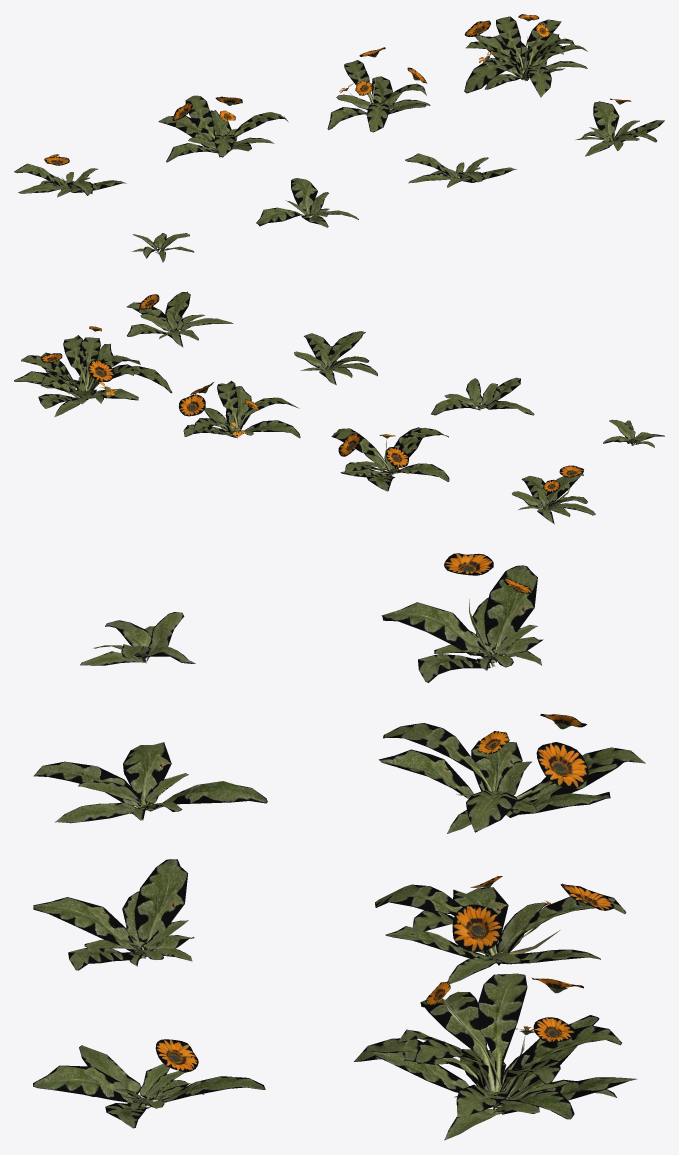
Rendered from flower_gazania.glb.
3 views of the same model, one above another, from view 1: azimuth 30°, elevation 25°; view 2: azimuth 150°, elevation 25°; view 3: azimuth 270°, elevation 25° (orthographic). The views are drawn at different scales.
Visible parts, largest first — view 1: flower_gazania_h_LOD0, flower_gazania_f_LOD0, flower_gazania_g_LOD0, flower_gazania_d_LOD0, flower_gazania_b_LOD0, flower_gazania_e_LOD0, flower_gazania_c_LOD0, flower_gazania_a_LOD0; view 2: flower_gazania_h_LOD0, flower_gazania_f_LOD0, flower_gazania_g_LOD0, flower_gazania_d_LOD0, flower_gazania_e_LOD0, flower_gazania_c_LOD0, flower_gazania_b_LOD0, flower_gazania_a_LOD0; view 3: flower_gazania_h_LOD0, flower_gazania_f_LOD0, flower_gazania_g_LOD0, flower_gazania_e_LOD0, flower_gazania_c_LOD0, flower_gazania_d_LOD0, flower_gazania_b_LOD0, flower_gazania_a_LOD0.
Part boxes in pixels (bbox=[...]): flower_gazania_h_LOD0: bbox=[464, 14, 587, 97]; flower_gazania_f_LOD0: bbox=[158, 95, 288, 162]; flower_gazania_g_LOD0: bbox=[327, 47, 430, 132]; flower_gazania_d_LOD0: bbox=[575, 98, 664, 156]; flower_gazania_b_LOD0: bbox=[256, 178, 358, 227]; flower_gazania_e_LOD0: bbox=[14, 154, 126, 197]; flower_gazania_c_LOD0: bbox=[405, 153, 516, 187]; flower_gazania_a_LOD0: bbox=[132, 233, 194, 262]; flower_gazania_h_LOD0: bbox=[14, 326, 172, 417]; flower_gazania_f_LOD0: bbox=[331, 427, 449, 491]; flower_gazania_g_LOD0: bbox=[179, 381, 300, 438]; flower_gazania_d_LOD0: bbox=[127, 291, 233, 347]; flower_gazania_e_LOD0: bbox=[512, 465, 595, 524]; flower_gazania_c_LOD0: bbox=[294, 331, 377, 385]; flower_gazania_b_LOD0: bbox=[431, 377, 534, 415]; flower_gazania_a_LOD0: bbox=[603, 419, 664, 447]; flower_gazania_h_LOD0: bbox=[354, 973, 637, 1140]; flower_gazania_f_LOD0: bbox=[379, 714, 645, 833]; flower_gazania_g_LOD0: bbox=[375, 876, 626, 983]; flower_gazania_e_LOD0: bbox=[381, 553, 543, 682]; flower_gazania_c_LOD0: bbox=[33, 859, 194, 970]; flower_gazania_d_LOD0: bbox=[33, 1039, 265, 1128]; flower_gazania_b_LOD0: bbox=[33, 742, 267, 823]; flower_gazania_a_LOD0: bbox=[80, 612, 195, 665].
Size of the model in its own units: 1.48 by 0.1653 by 0.7015.
Materials: 1 (1 with a texture image).
